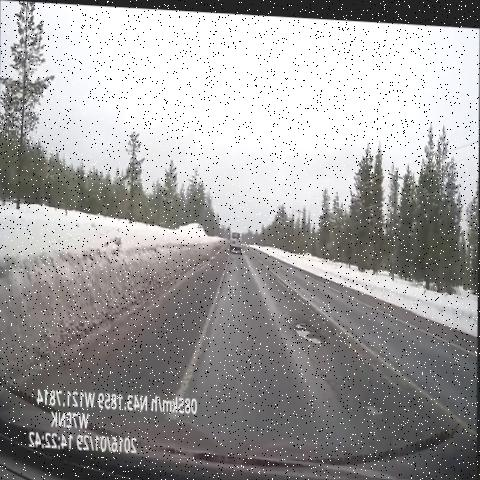pothole: (283, 294, 332, 359), (364, 389, 386, 424)
